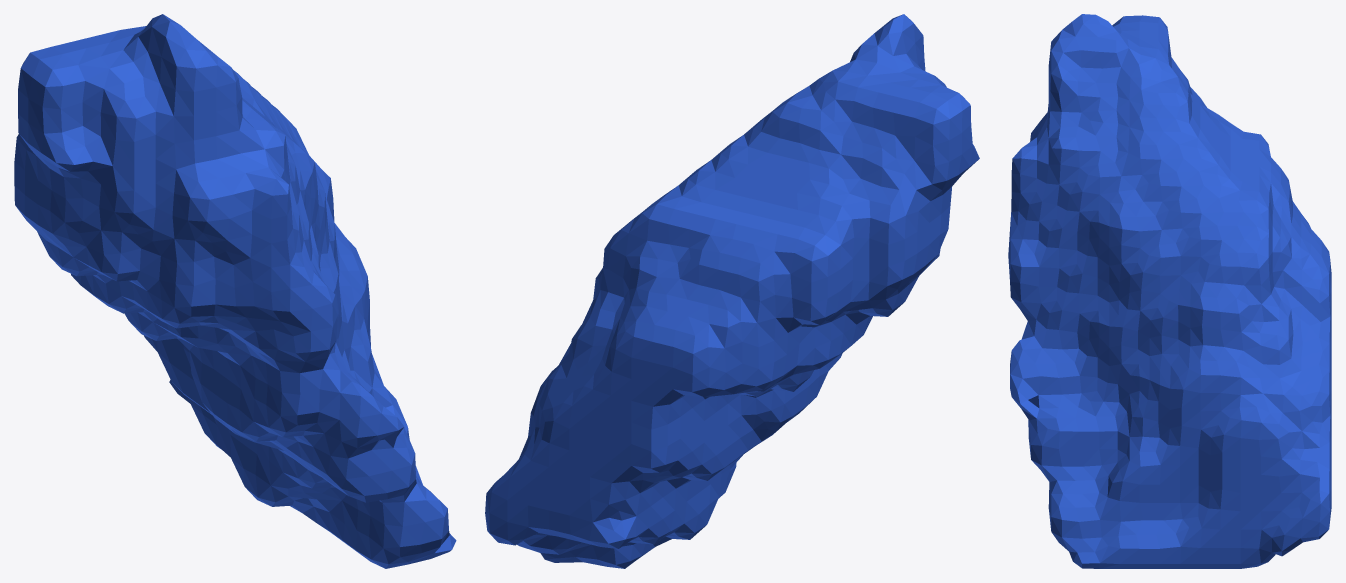
File: aseg_052_Right-Pallidum.glb
3 renders of one model, left to right at view 1: azimuth 30°, elevation 25°; view 2: azimuth 150°, elevation 25°; view 3: azimuth 270°, elevation 25°, orthographic. The views are drawn at different scales.
Bounding box in the file's own units: 17.93 × 24.8 × 16.
